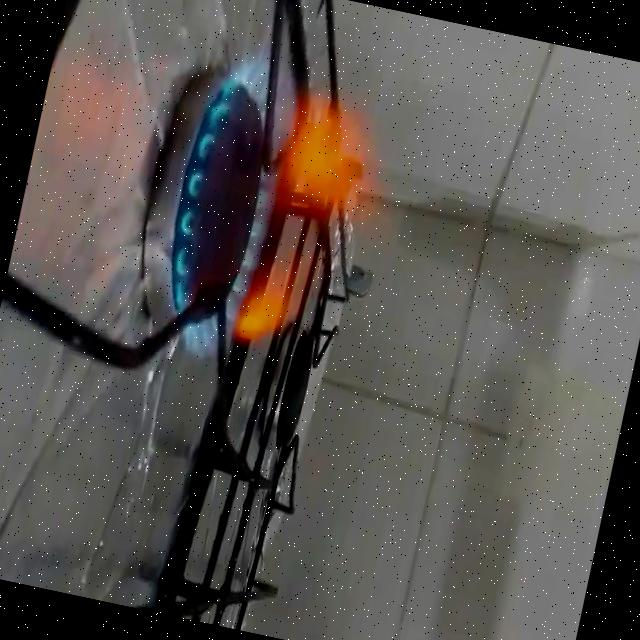fire: (149, 29, 429, 395)
